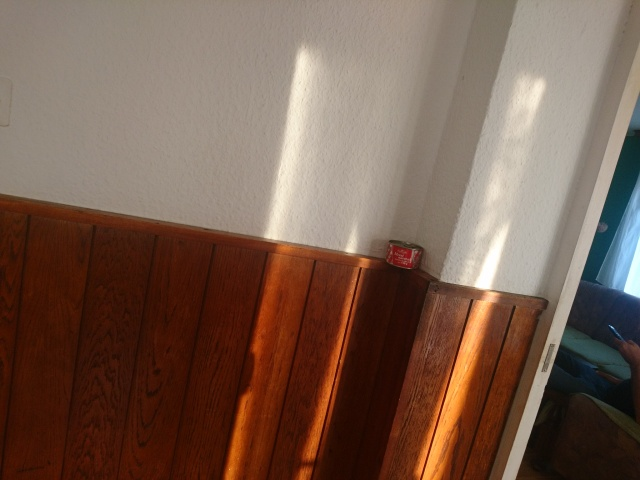Podravka Luncheon Meat 150g: (382, 236, 426, 273)
